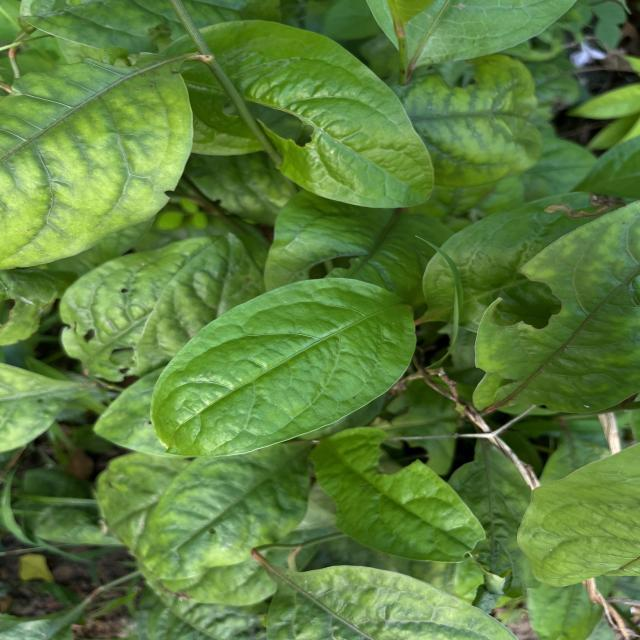Plumbago indica: (174, 13, 447, 212), (146, 267, 418, 461), (303, 424, 487, 562)
